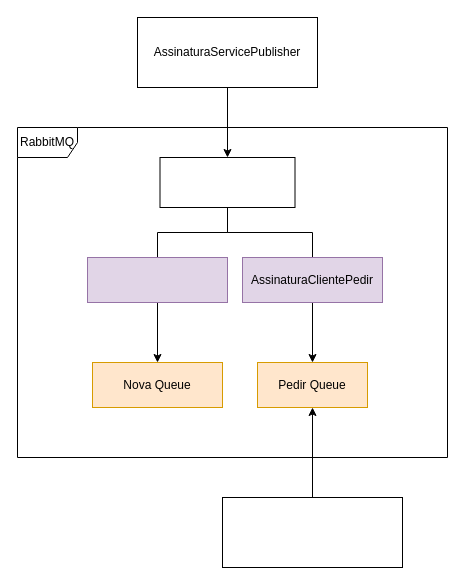
This 465x585 diagram has some shape labels left out. The shapes that lost their labels are listed below. From the top down, each one's box as (x1, y1, x2, y2) in pixels, then its label:
(159, 156, 295, 208): AssinaturaClienteTopic
(86, 256, 228, 302): AssinaturaClienteNova
(222, 496, 402, 568): ProdutoServiceConsumer
